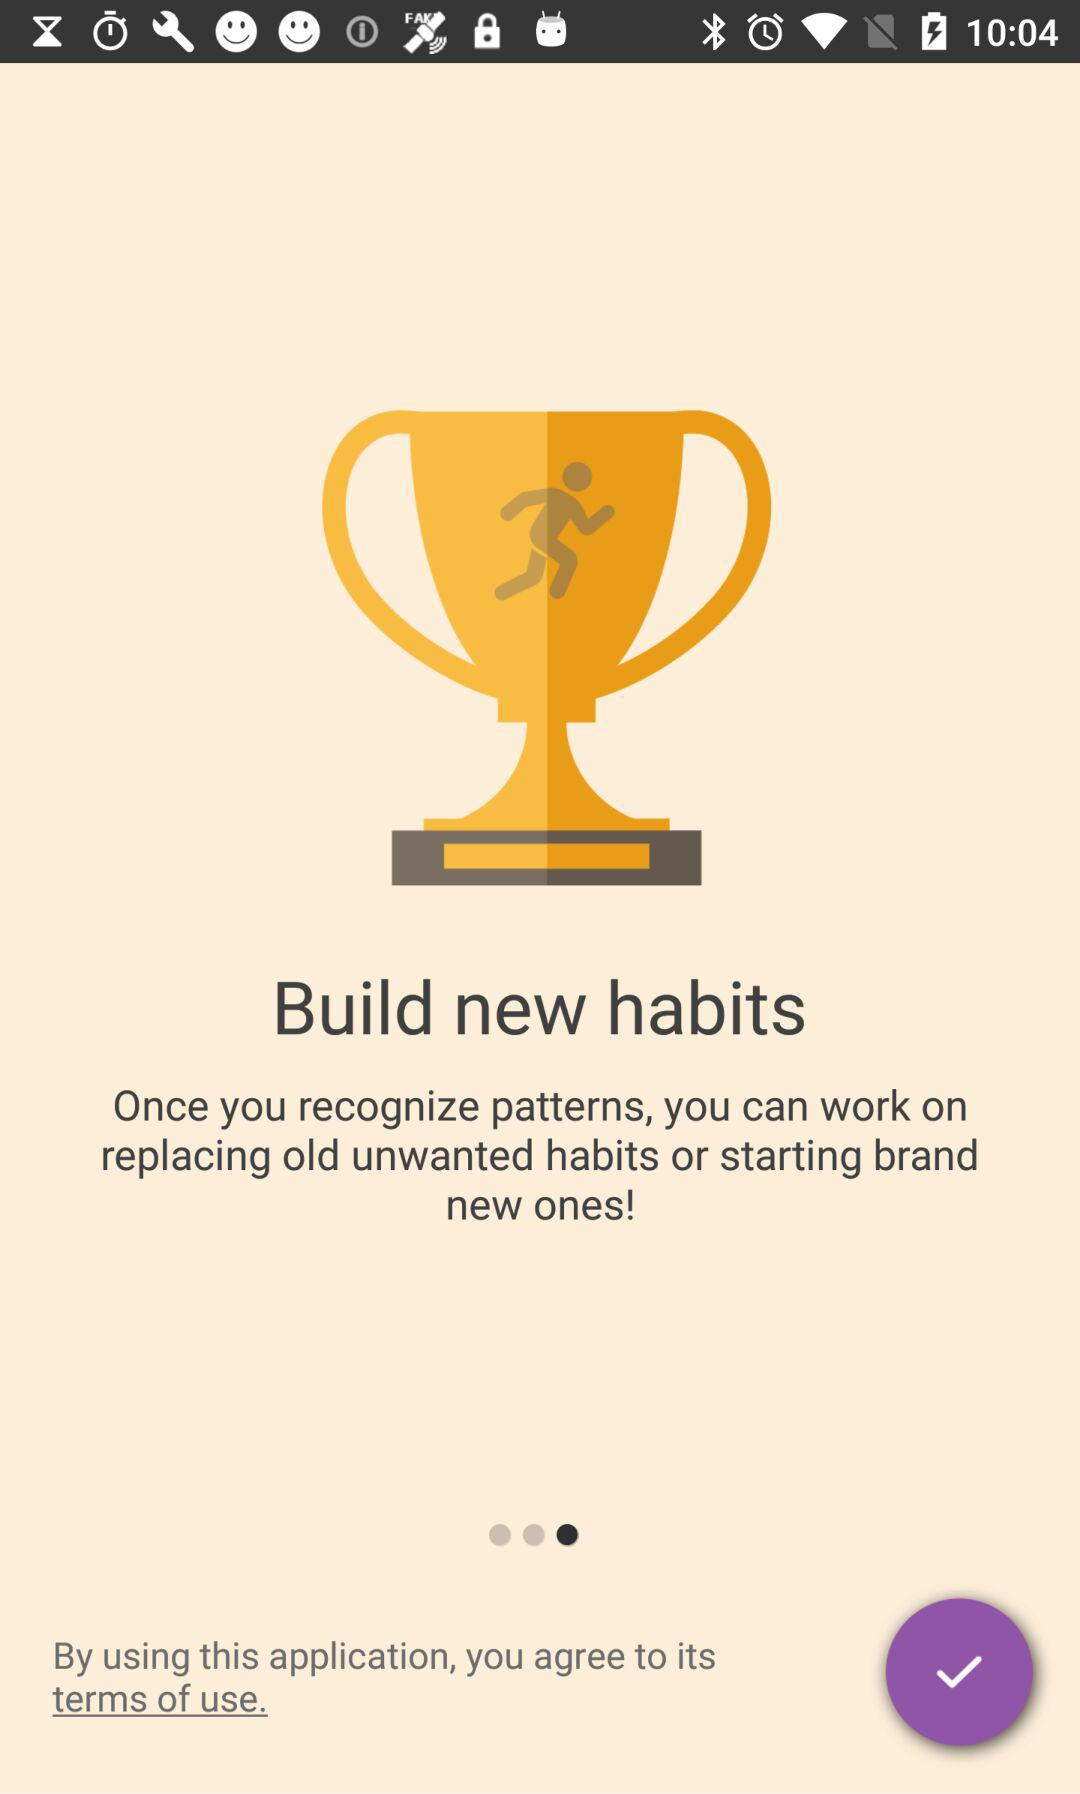Icon: (885, 1597, 1034, 1747)
Image: (322, 409, 775, 887)
PageIndicator: (487, 1522, 582, 1549)
Text: (97, 1085, 979, 1222), (53, 1640, 717, 1718), (275, 976, 806, 1038)
UpperTaskBar: (1, 1, 1080, 64)
